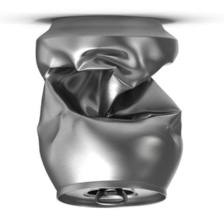can: (27, 11, 190, 211)
